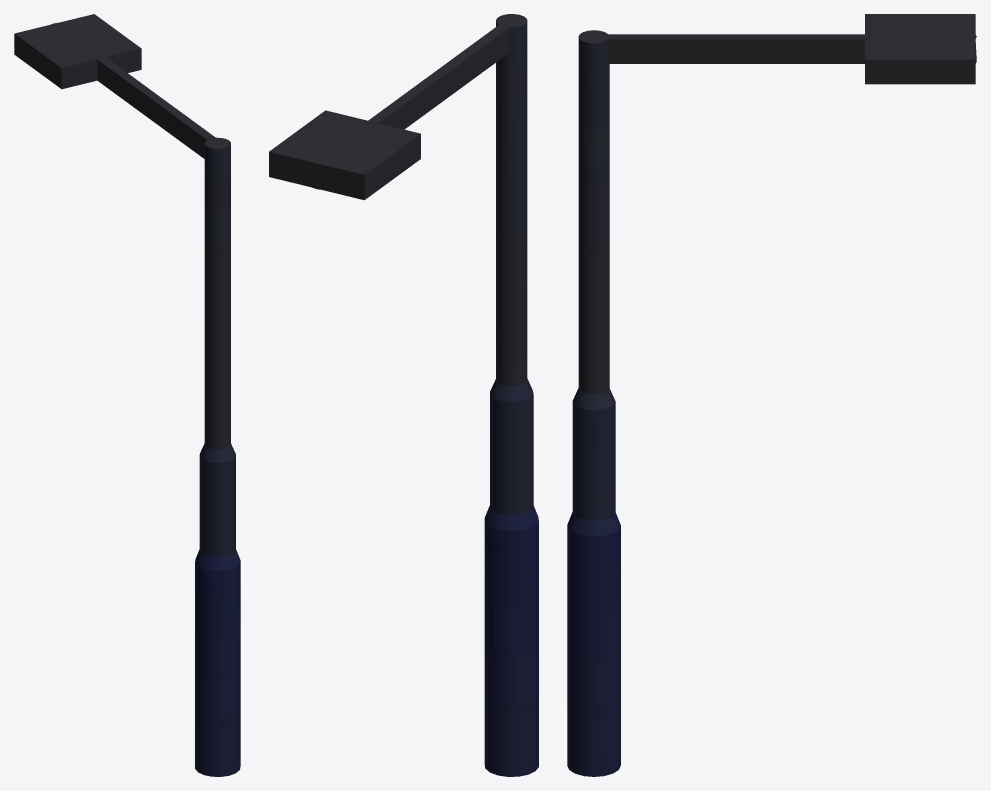
The model's file is LampPostV2.fbx.
3 renders of one model, left to right at view 1: azimuth 30°, elevation 25°; view 2: azimuth 150°, elevation 25°; view 3: azimuth 270°, elevation 25°, orthographic. The views are drawn at different scales.
Visible parts, largest first — view 1: Cylinder; view 2: Cylinder; view 3: Cylinder.
Part boxes in pixels (left/top/right/bottom): Cylinder: left=14, top=14, right=240, bottom=776; Cylinder: left=269, top=14, right=538, bottom=776; Cylinder: left=567, top=14, right=976, bottom=776.
Bounding box in the file's own units: 402 × 2996 × 1526.
